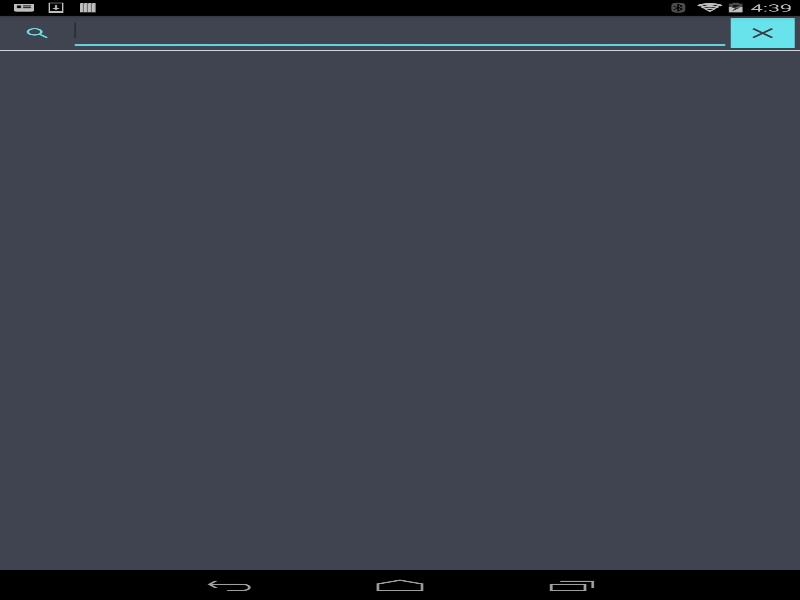Input: (69, 18, 730, 48)
